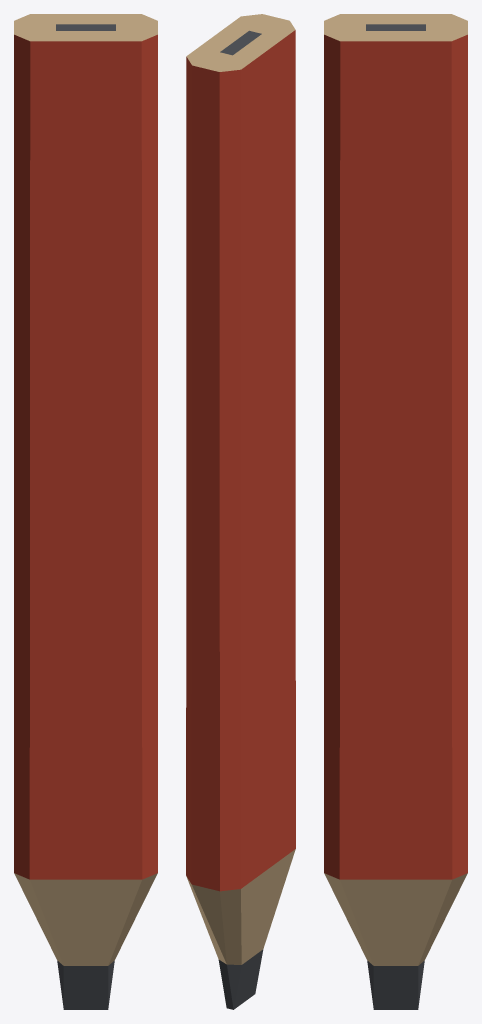
Rendered from SM_Item_Pencil_02.fbx.
3 views of the same model, side by side, from view 1: azimuth 90°, elevation 25°; view 2: azimuth 150°, elevation 25°; view 3: azimuth 270°, elevation 25° (orthographic). The views are drawn at different scales.
Visible parts, largest first — view 1: SM_Item_Pencil_02; view 2: SM_Item_Pencil_02; view 3: SM_Item_Pencil_02.
Part boxes in pixels (x1=…): SM_Item_Pencil_02: x1=14, y1=14, x2=157, y2=1009; SM_Item_Pencil_02: x1=186, y1=14, x2=295, y2=1009; SM_Item_Pencil_02: x1=324, y1=14, x2=467, y2=1009.
Bounding box in the file's own units: 1.1 × 18.44 × 2.45.
